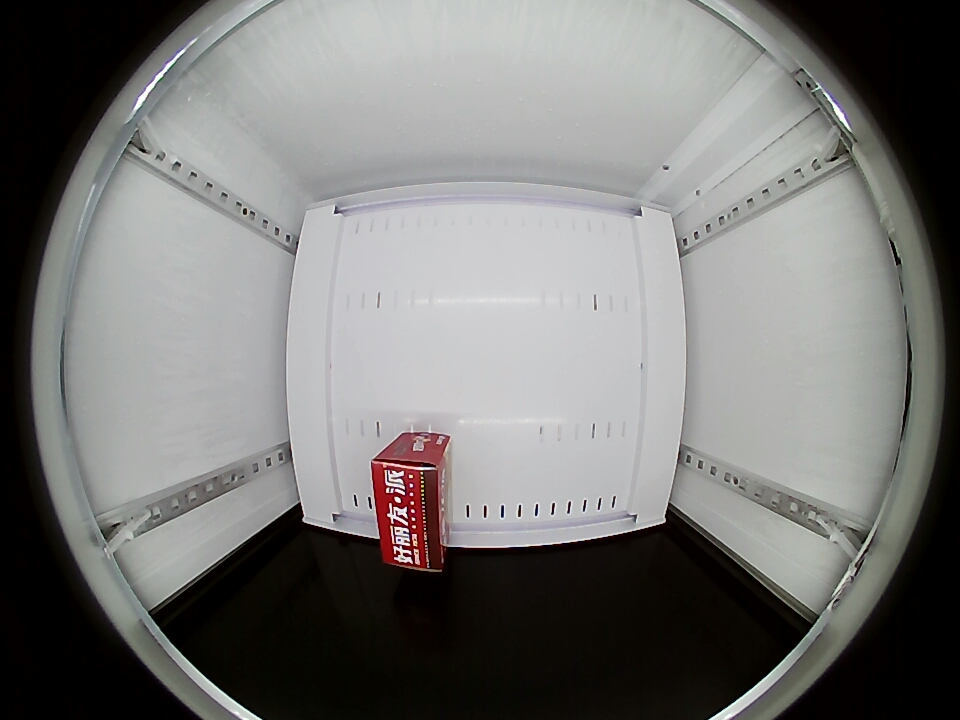haoliyou: (370, 439, 448, 572)
